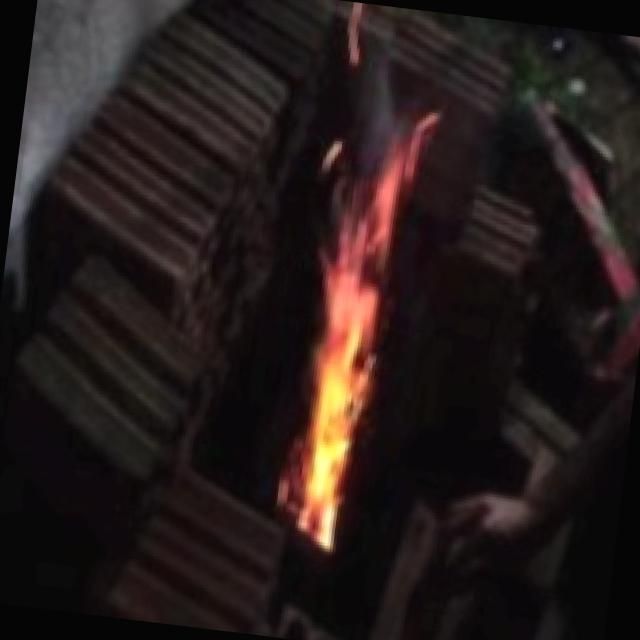fire: (210, 72, 450, 598)
